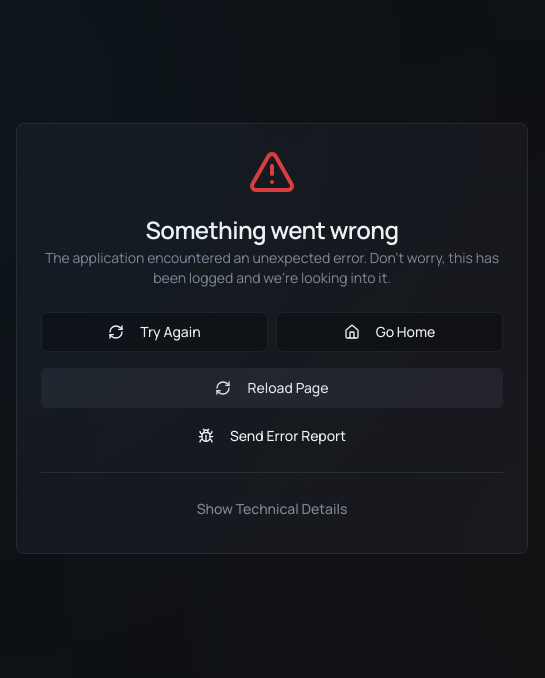
Test: ErrorFallback › should show technical details when requested
Expected: the text "Test error message" is not shown
Click to show details
Click the button "Show Technical Details".
click(272, 508)  # box [41,488,503,528]
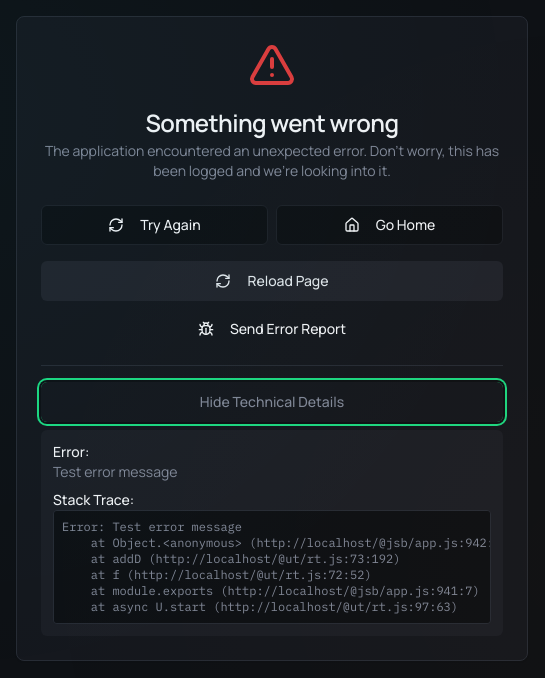
Expected: the text "Test error message" is shown, [53,462,177,480]
Expected: the text "Stack Trace:" is shown, [53,490,134,508]
